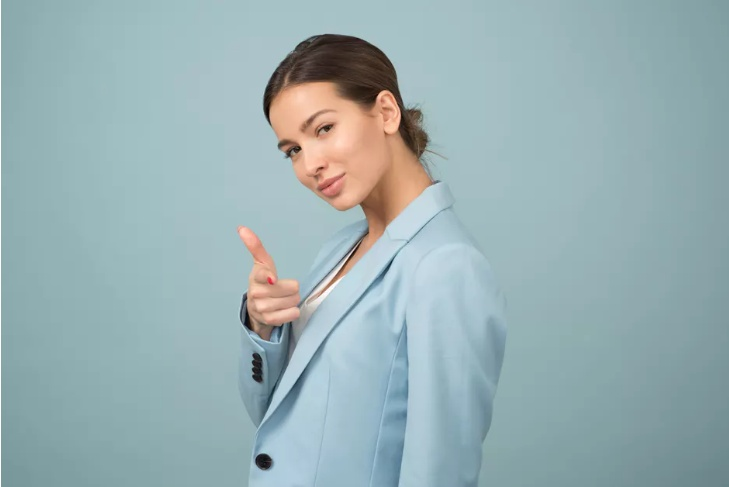face: (269, 83, 375, 210)
